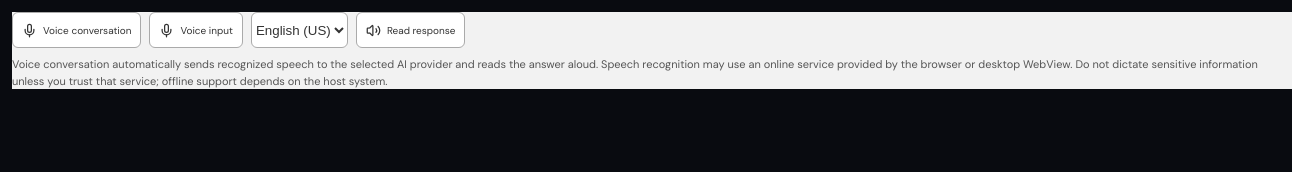
Test: VoiceControls › ends voice conversation and reports microphone permission denial
This screenshot has width=1292, height=172.
What coordinates should you click on to do the following:
click the button with aria-label "Start voice conversation"
I would click on:
 (77, 30)
Its box is x1=12 y1=12 x2=141 y2=48.
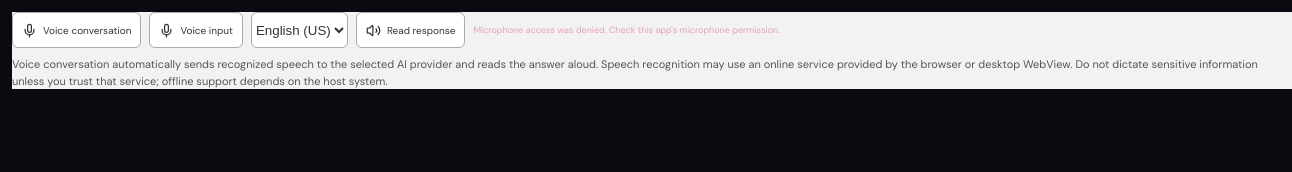
Expected: the text "Microphone access was denied" is shown, x1=474 y1=24 x2=780 y2=36
